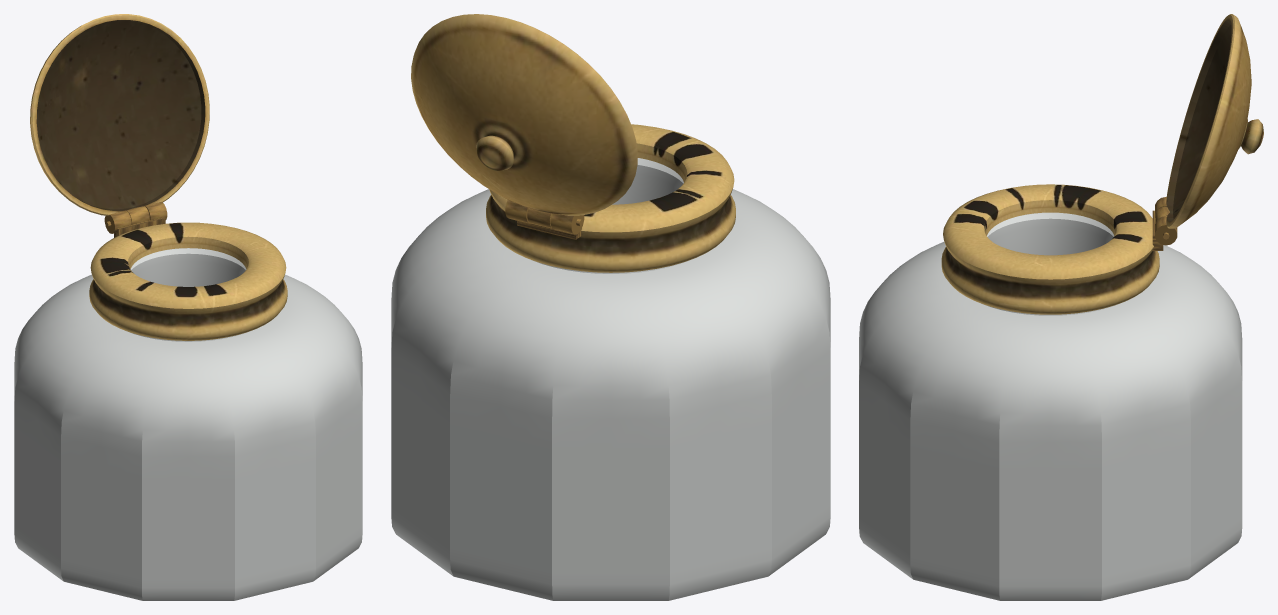
File: tintero.glb
3 renders of one model, left to right at view 1: azimuth 30°, elevation 25°; view 2: azimuth 150°, elevation 25°; view 3: azimuth 270°, elevation 25°, orthographic. The views are drawn at different scales.
Visible parts, largest first — view 1: tintero_vidrio, tintero_tapa, tintero_laton; view 2: tintero_vidrio, tintero_tapa, tintero_laton; view 3: tintero_vidrio, tintero_laton, tintero_tapa.
Boxes of the visible parts, left/top/right/bottom form: tintero_vidrio: left=14, top=248, right=362, bottom=600; tintero_tapa: left=30, top=14, right=209, bottom=224; tintero_laton: left=89, top=202, right=287, bottom=340; tintero_vidrio: left=391, top=158, right=830, bottom=600; tintero_tapa: left=411, top=14, right=637, bottom=228; tintero_laton: left=486, top=124, right=735, bottom=272; tintero_vidrio: left=859, top=212, right=1242, bottom=600; tintero_laton: left=941, top=184, right=1177, bottom=314; tintero_tapa: left=1155, top=14, right=1263, bottom=228.
Size of the model in its own units: 0.0541 by 0.0779 by 0.0572.
3 materials, 1 textured.
